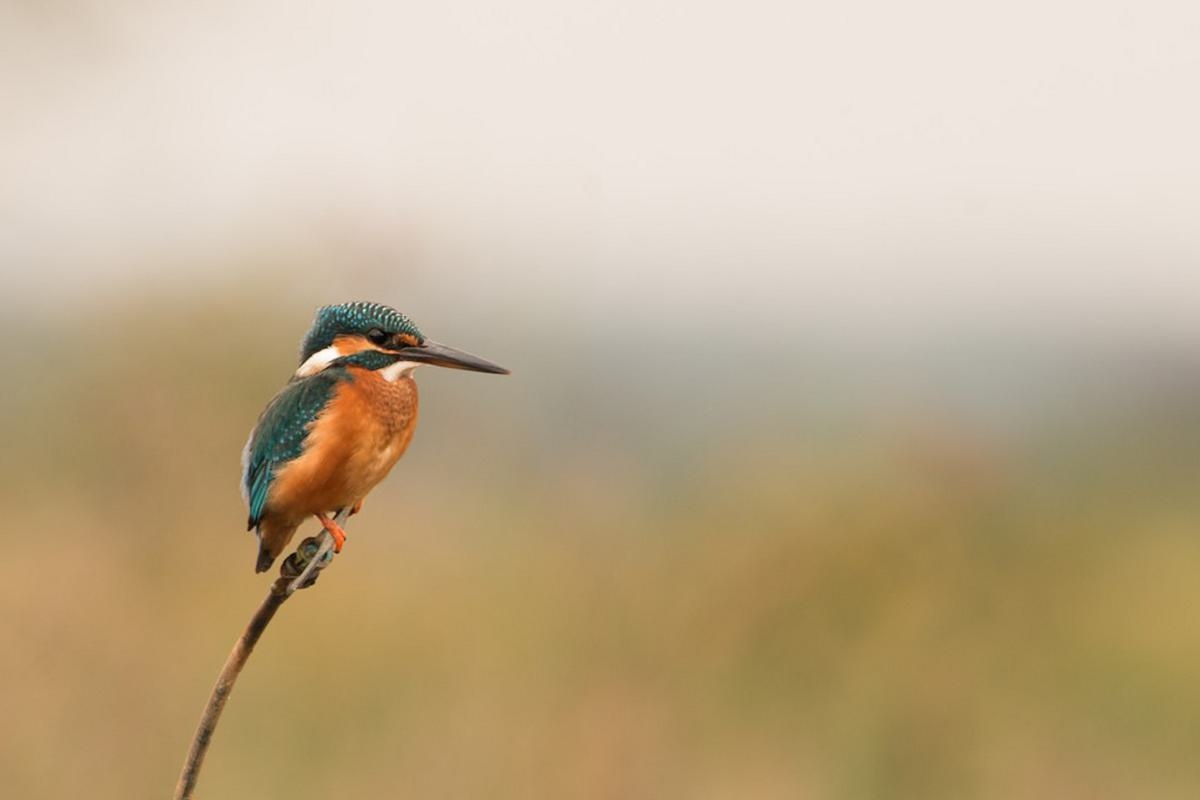kingfisher: (233, 301, 520, 558)
